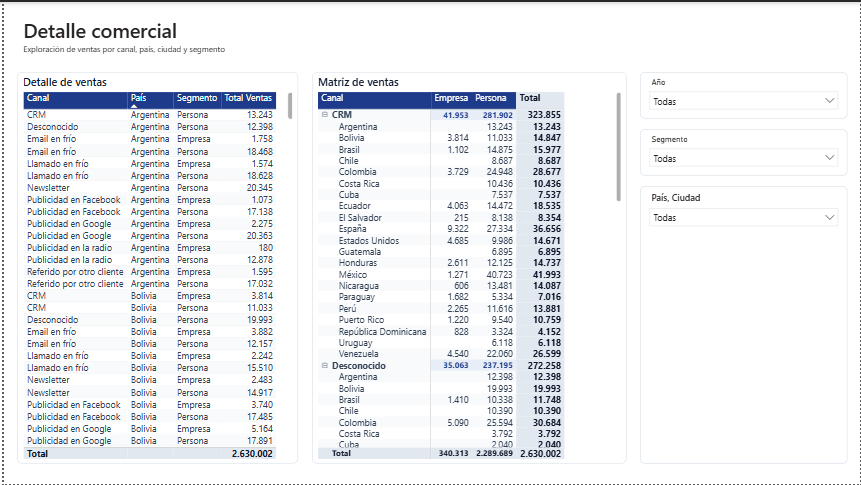

The dashboard page shown, as its layout file describes it:
{"tool":"powerbi","page":{"name":"Tabla - Matriz","canvas":[1280,720],"ordinal":0},"visuals":[{"type":"tableEx","fields":{"Values":["Canales.Canal","Clientes.País","Clientes.Segmento","Medidas.Total Ventas"]},"box":[9.6,0,409.4,380.7],"z":0},{"type":"pivotTable","fields":{"Rows":["Canales.Canal","Clientes.País"],"Columns":["Clientes.Segmento"],"Values":["Medidas.Total Ventas"]},"box":[438.1,20.7,458.8,535.2],"z":1000},{"type":"actionButton","box":[0,0,100,40],"z":2000},{"type":"slicer","fields":{"Values":["Clientes.País","Clientes.Ciudad"]},"box":[938.2,20.7,245.3,281.9],"z":3000},{"type":"slicer","fields":{"Values":["Clientes.Segmento"]},"box":[897.9,335.5,327.8,108.6],"z":4000}]}

Visuals, with their boxes on the page's 1280x720 design canvas (x1, y1, x2, y2). These are canvas units, not pixel positions in the 861x485 screenshot, which may show the page scaled, cropped or inside an application window:
tableEx - Canales.Canal x Clientes.País: bbox=(10, 0, 419, 381)
pivotTable - Canales.Canal x Clientes.País: bbox=(438, 21, 897, 556)
actionButton: bbox=(0, 0, 100, 40)
slicer - Clientes.País x Clientes.Ciudad: bbox=(938, 21, 1184, 303)
slicer - Clientes.Segmento: bbox=(898, 336, 1226, 444)
